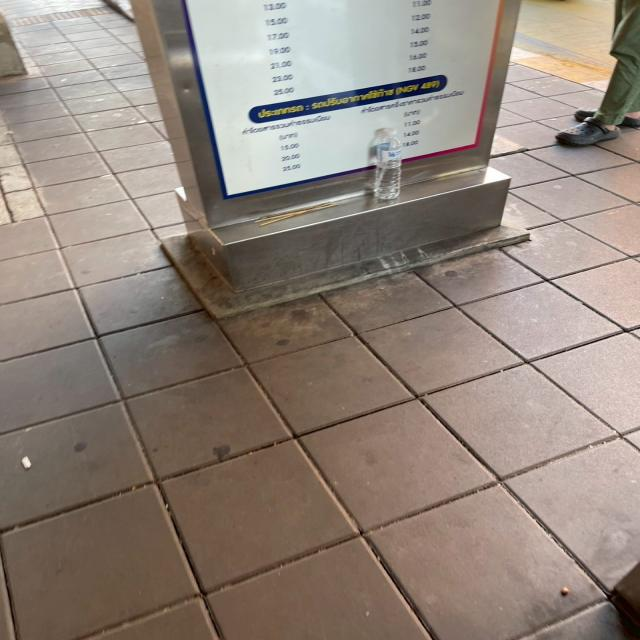plastic bottle: (374, 120, 400, 203)
